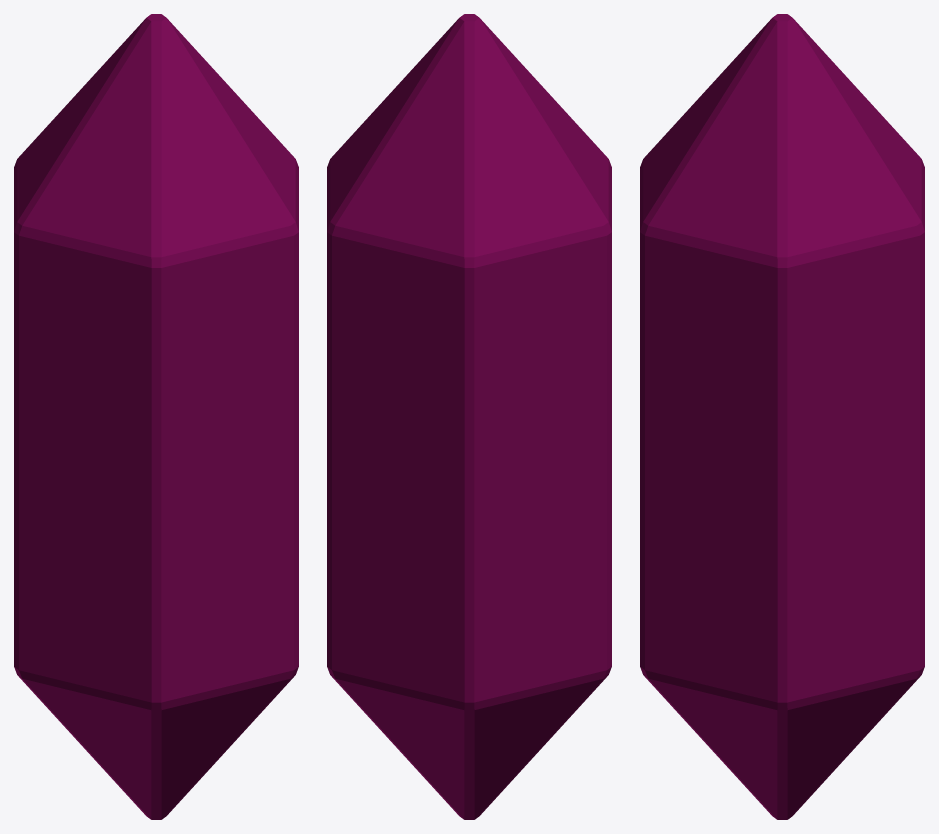
Rendered from crystal2.glb.
3 views of the same model, side by side, from view 1: azimuth 30°, elevation 25°; view 2: azimuth 150°, elevation 25°; view 3: azimuth 270°, elevation 25° (orthographic).
Parts seen in each view (by area): view 1: Crystal2_Cylinder; view 2: Crystal2_Cylinder; view 3: Crystal2_Cylinder.
Part boxes in pixels (<box>): Crystal2_Cylinder: <box>14,14,298,819</box>; Crystal2_Cylinder: <box>327,14,611,819</box>; Crystal2_Cylinder: <box>640,14,924,819</box>.
Bounding box in the file's own units: 0.3287 × 0.8957 × 0.2896.
